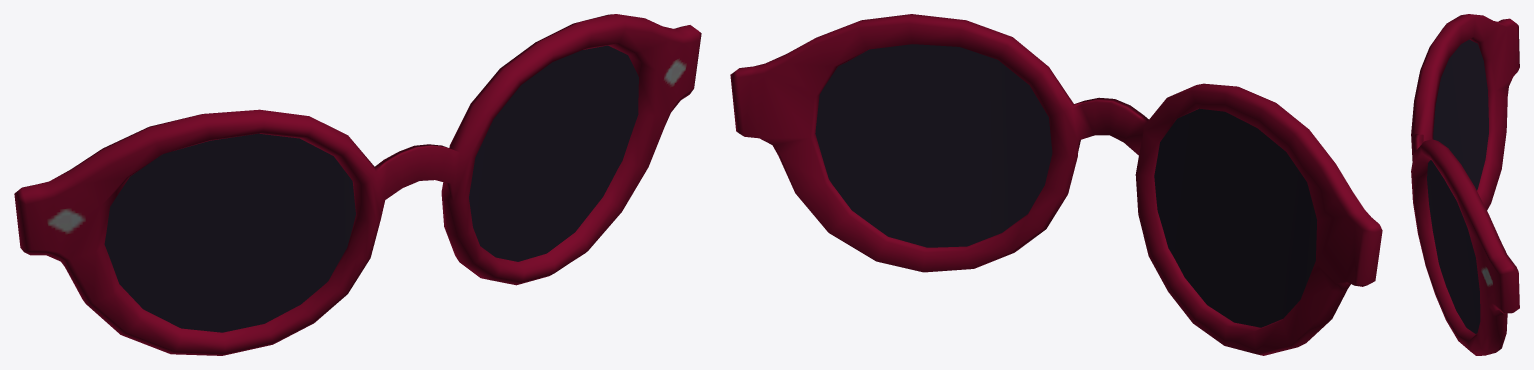
The model's file is AccessoryGlassBoston5.glb.
The picture shows the model from 3 angles, left to right: view 1: azimuth 30°, elevation 25°; view 2: azimuth 150°, elevation 25°; view 3: azimuth 270°, elevation 25°; orthographic projection. The views are drawn at different scales.
Visible parts, largest first — view 1: AccessoryAlpha__AccessoryGlassBostonBlackHigh_mAccessory; view 2: AccessoryAlpha__AccessoryGlassBostonBlackHigh_mAccessory; view 3: AccessoryAlpha__AccessoryGlassBostonBlackHigh_mAccessory.
Boxes of the visible parts, <box> form: AccessoryAlpha__AccessoryGlassBostonBlackHigh_mAccessory: <box>14,14,701,355</box>; AccessoryAlpha__AccessoryGlassBostonBlackHigh_mAccessory: <box>730,14,1382,355</box>; AccessoryAlpha__AccessoryGlassBostonBlackHigh_mAccessory: <box>1411,14,1519,355</box>.
Bounding box in the file's own units: 6.82 × 2.42 × 1.24.
1 material, 1 textured.
